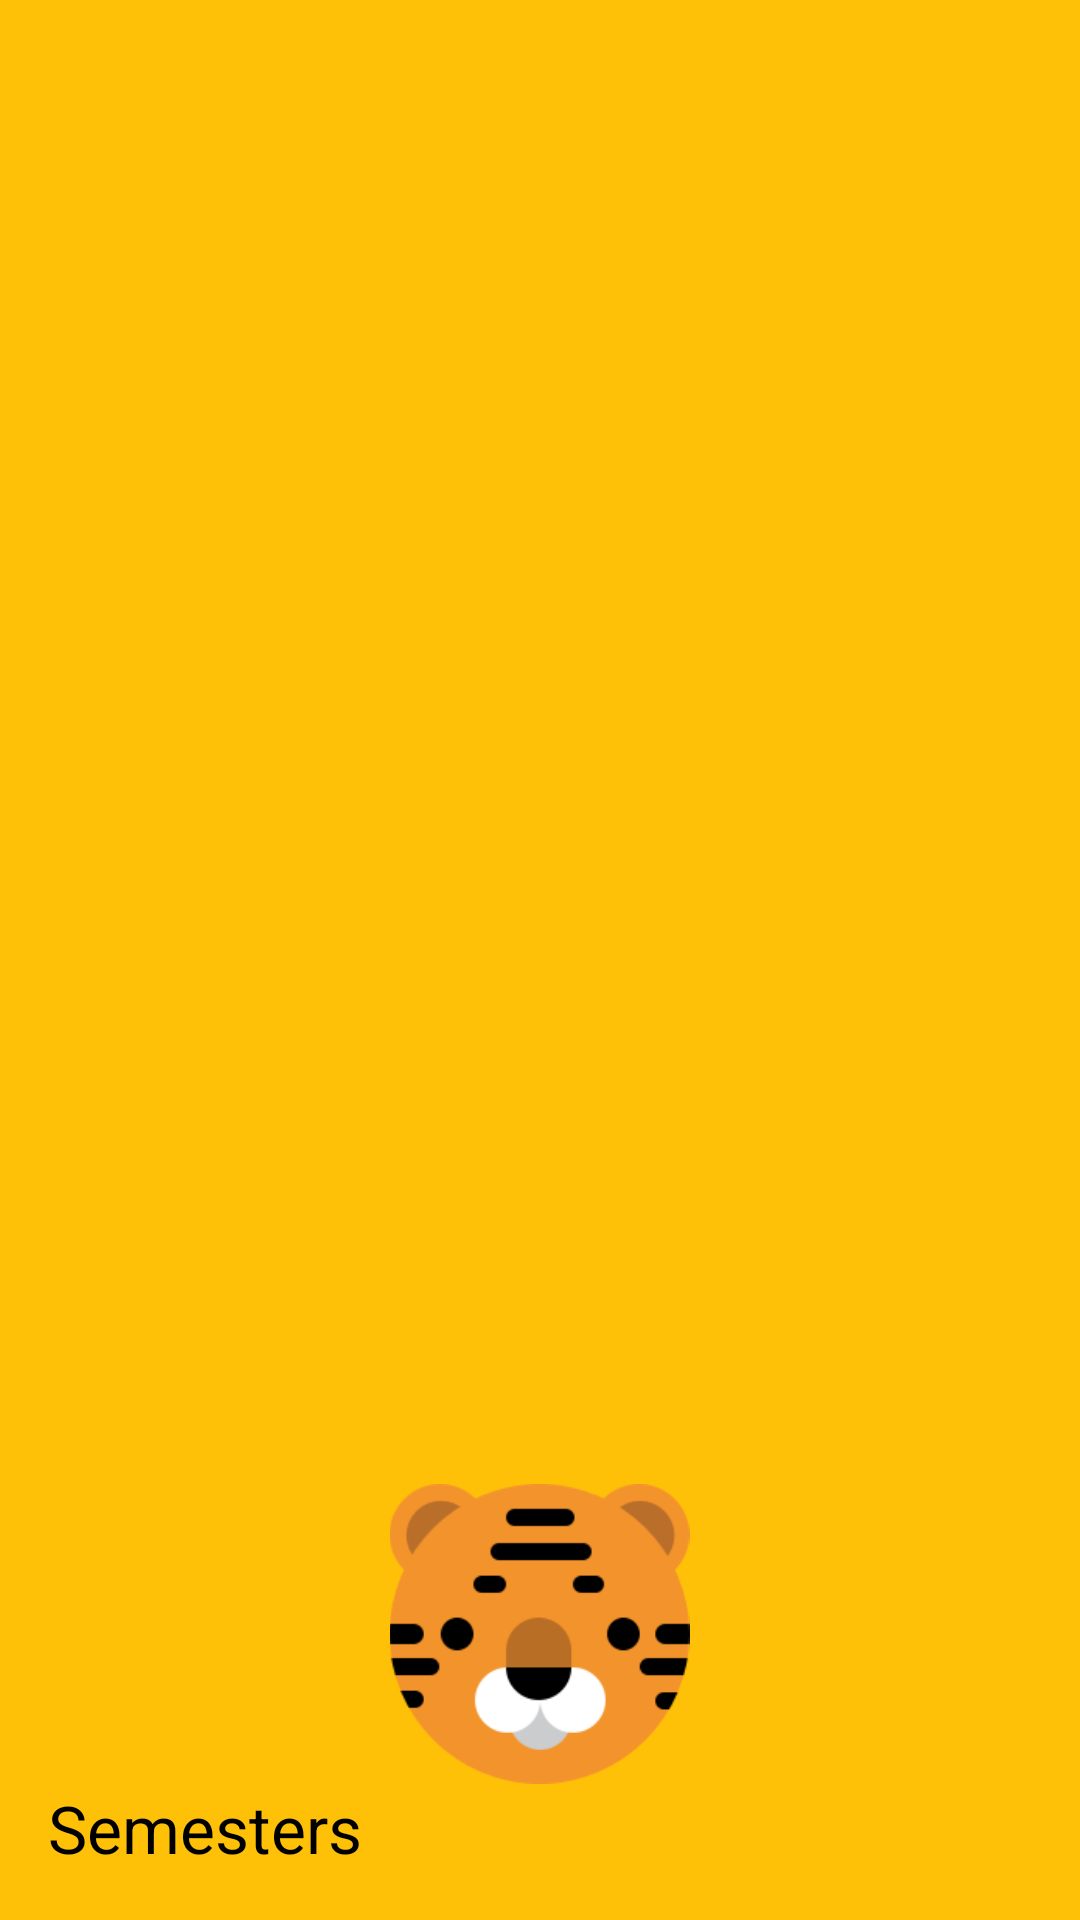

Icons on this 1080w x 1920h Android screen, each with the point to tap as (x=x, y=y):
tiger: (x=540, y=1634)
